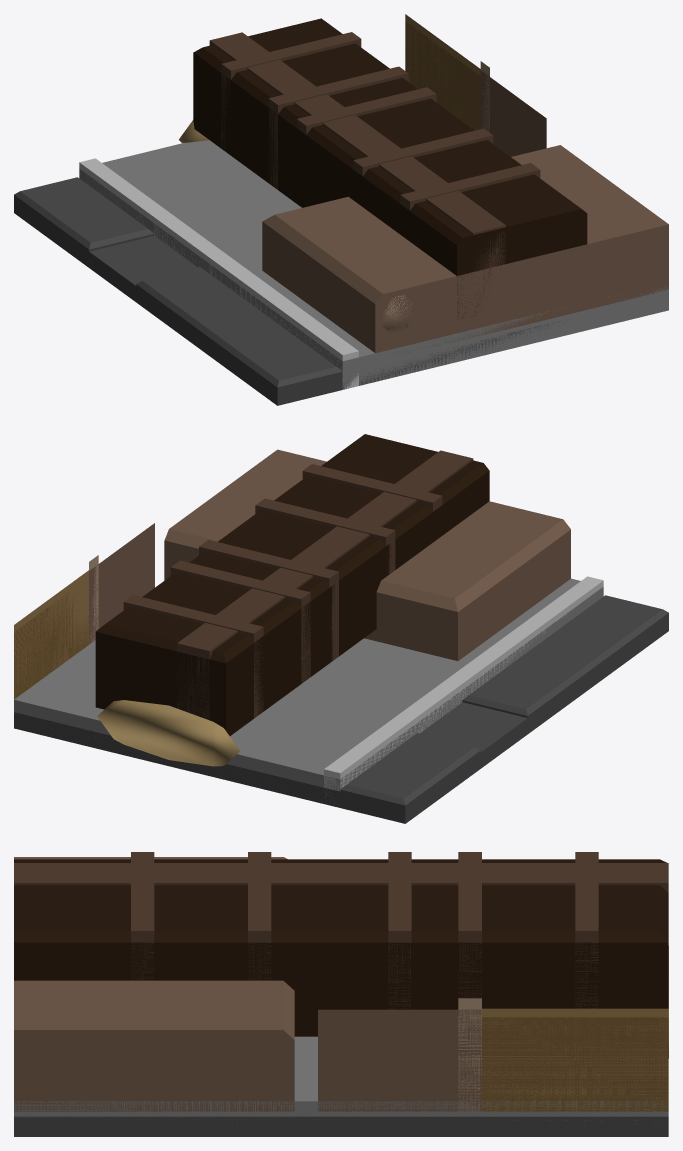
The model's file is newshp-229.glb.
3 renders of one model, top to bottom at view 1: azimuth 30°, elevation 25°; view 2: azimuth 150°, elevation 25°; view 3: azimuth 270°, elevation 25°, orthographic. The views are drawn at different scales.
Parts seen in each view (by area): view 1: newshp-229; view 2: newshp-229; view 3: newshp-229.
Part boxes in pixels (left/top/right/bottom): newshp-229: left=14, top=14, right=668, bottom=405; newshp-229: left=14, top=434, right=668, bottom=823; newshp-229: left=14, top=852, right=668, bottom=1136.
Bounding box in the file's own units: 2 × 0.615 × 2.33.
